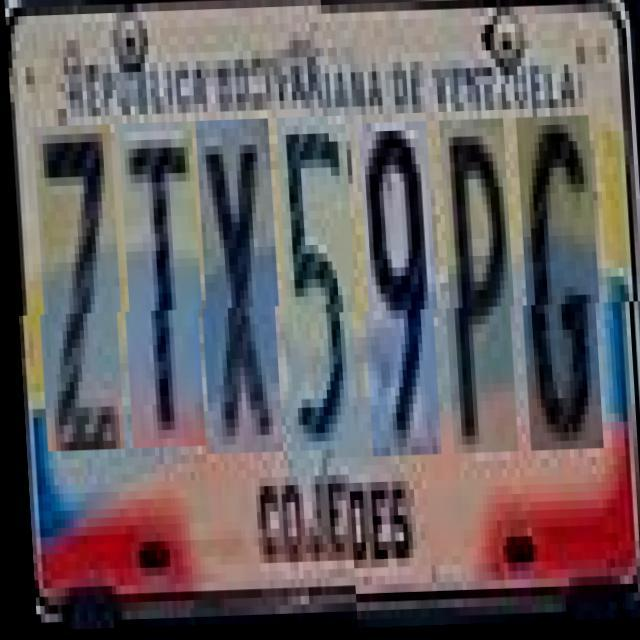5: (275, 126, 359, 462)
9: (356, 124, 440, 460)
G: (514, 120, 602, 454)
P: (437, 122, 517, 457)
T: (117, 130, 205, 458)
X: (194, 129, 282, 464)
Z: (32, 133, 124, 460)
